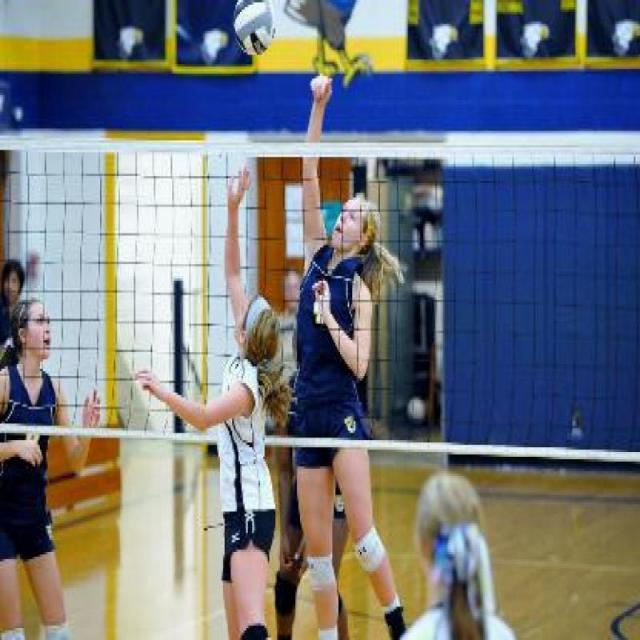volleyball: (229, 0, 277, 54)
